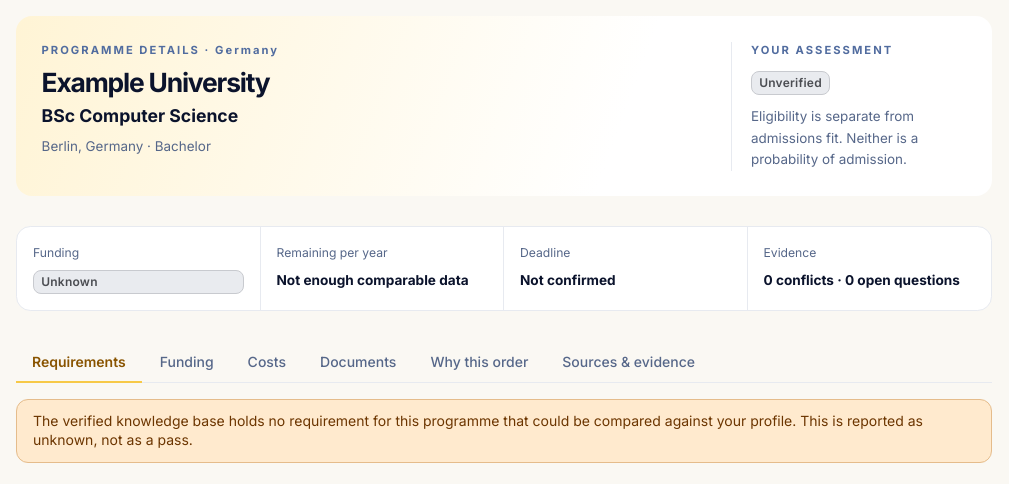
Test: the Costs tab › names a verified fee for another academic year instead of saying none was found
Step 1. Click the tab with test id "tab-costs" → x=267, y=363, box [232,343,302,383]
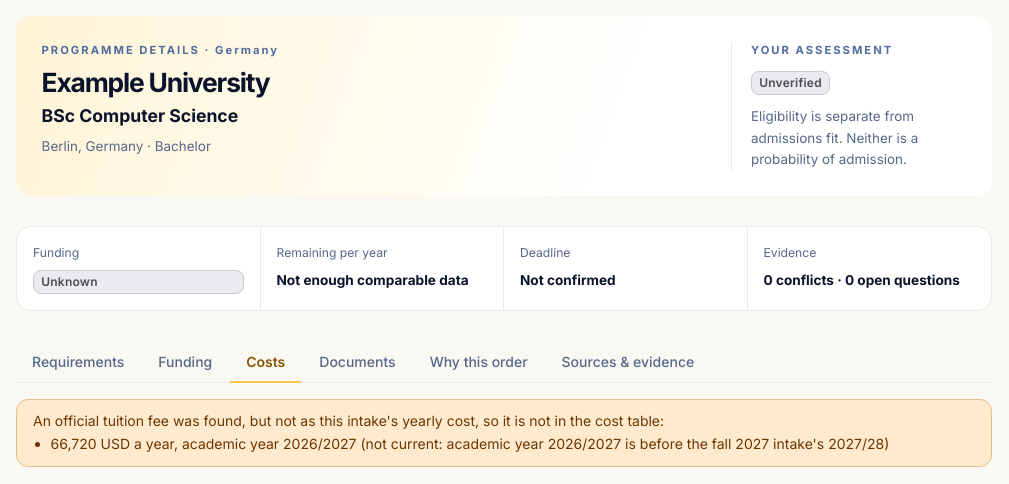
Expected: the element with test id "unused-tuition" shows "66,720 USD a year, academic year 2026/2027 (not current: academic year 2026/2027 is before the fall 2027 intake's 2027/28)", [51,435,889,452]
